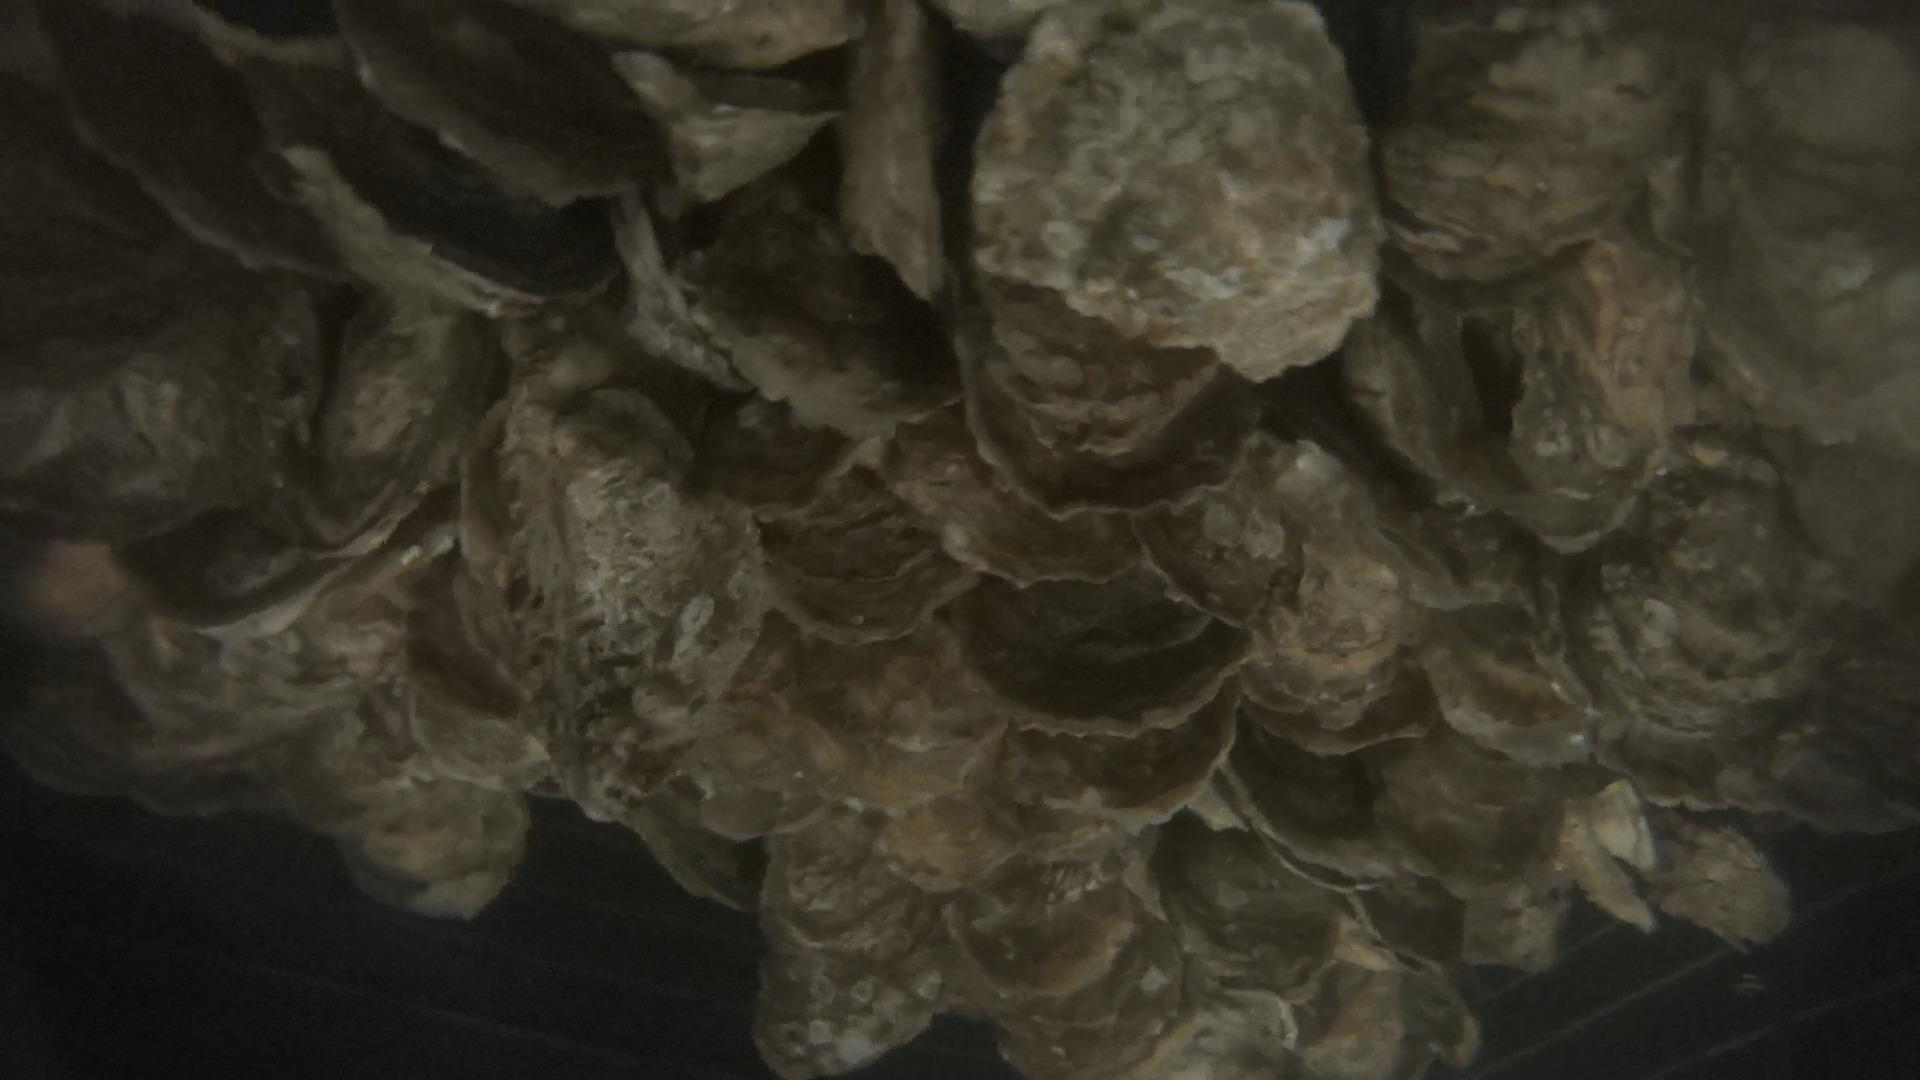3: (216, 26, 616, 336), (123, 323, 506, 629), (599, 187, 961, 448)
Oyster-Open: (0, 98, 318, 491), (455, 397, 764, 746), (1386, 7, 1698, 284), (1575, 450, 1820, 767), (971, 282, 1246, 513), (1516, 243, 1698, 571), (952, 570, 1240, 738), (760, 920, 944, 1080), (554, 0, 844, 73)
